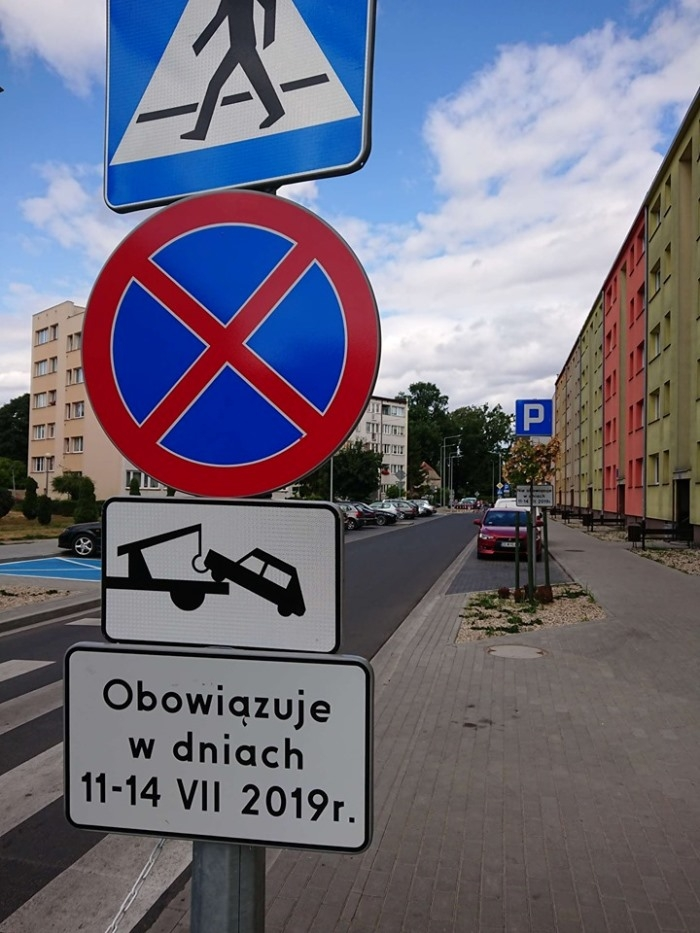no_stopping_sign: (82, 189, 382, 498)
